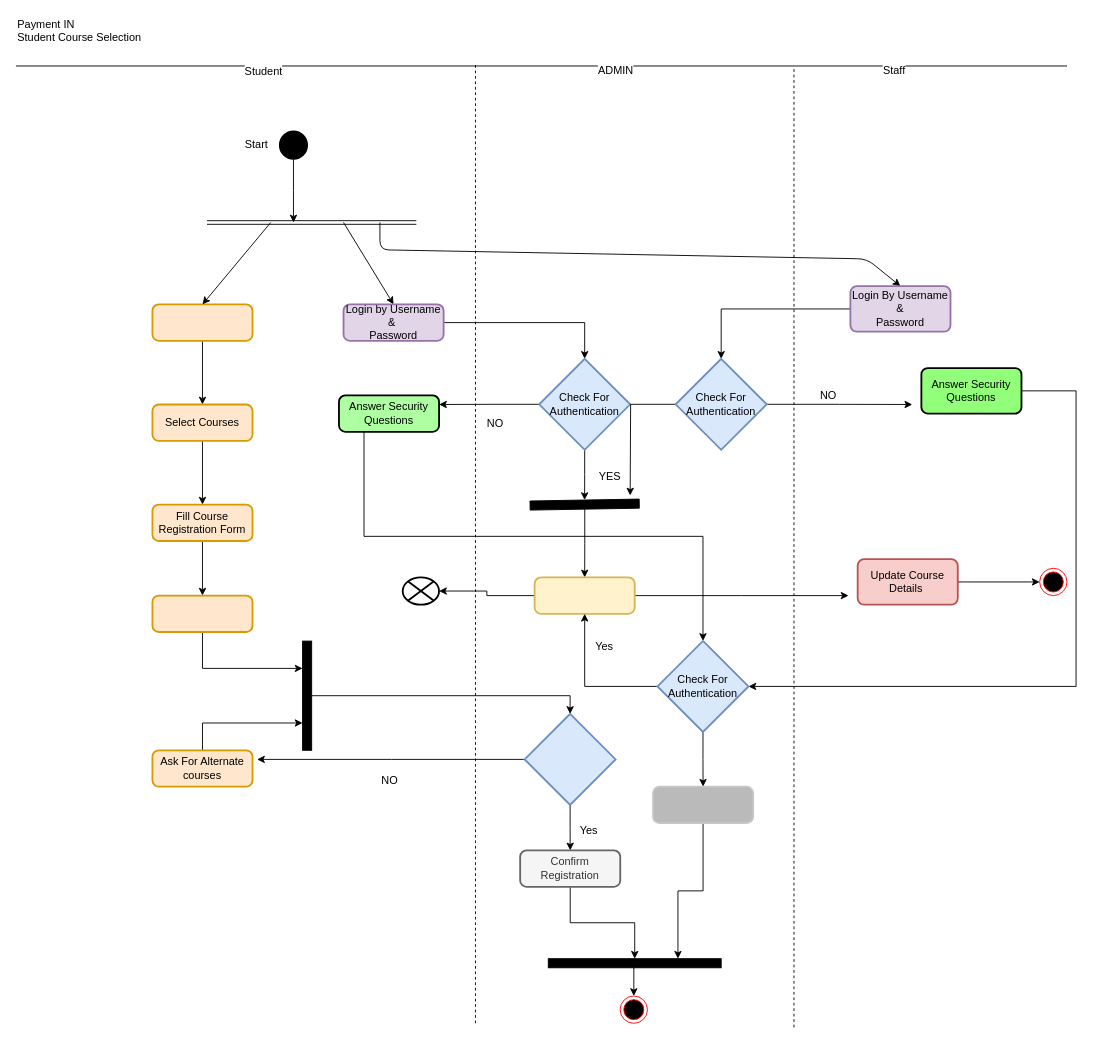
Some shapes in this 1099 by 1044 pixel diagram are drawn without their labels. Each missing label, with the centre of its shape:
Allow: (x=584, y=595)
Check For Vacancy: (x=569, y=759)
Restrict: (x=703, y=804)
Submit Form: (x=202, y=613)
View Course Catalog: (x=202, y=322)
